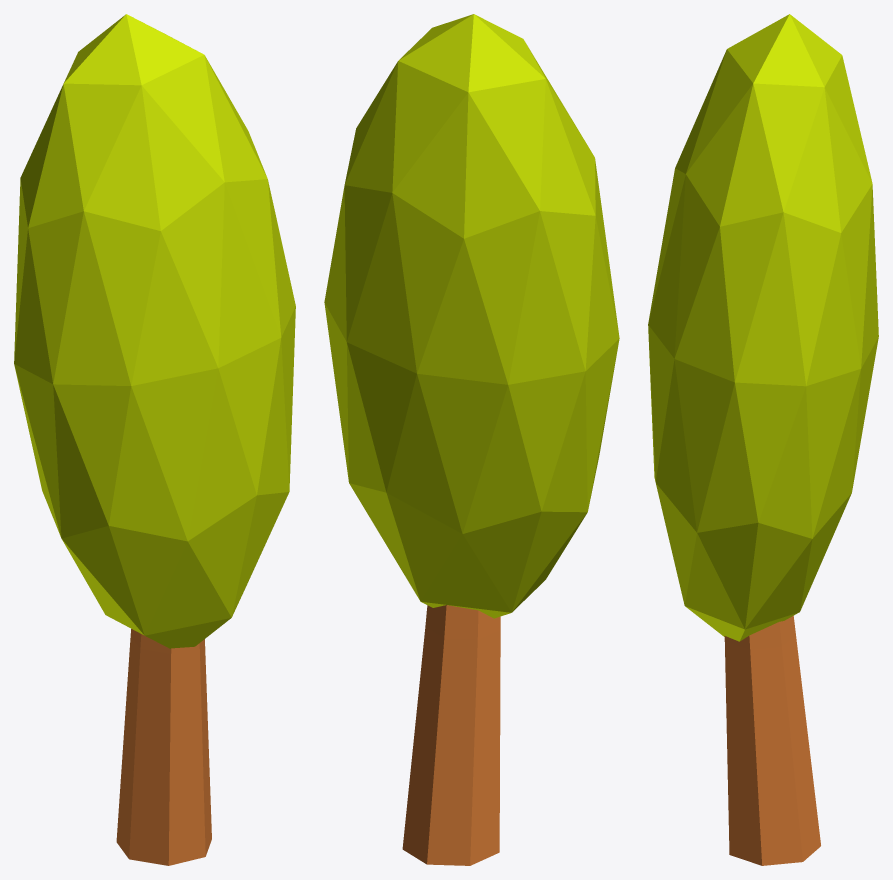
The model's file is Tree4.fbx.
3 renders of one model, left to right at view 1: azimuth 30°, elevation 25°; view 2: azimuth 150°, elevation 25°; view 3: azimuth 270°, elevation 25°, orthographic. The views are drawn at different scales.
Visible parts, largest first — view 1: Tree4; view 2: Tree4; view 3: Tree4.
Boxes of the visible parts, x1=… form: Tree4: x1=14, y1=14, x2=295, y2=865; Tree4: x1=324, y1=14, x2=619, y2=865; Tree4: x1=648, y1=14, x2=878, y2=865.
Size of the model in its own units: 20.21 by 63.61 by 16.27.
